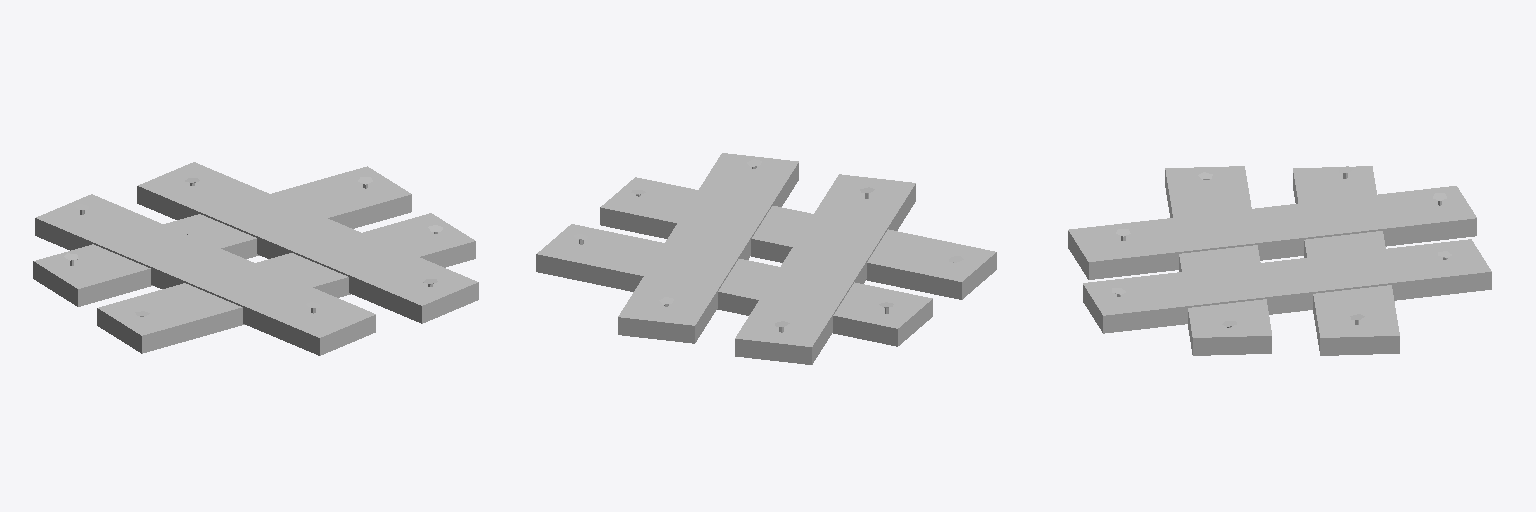
Rendered from Planks_V3.obj.
The picture shows the model from 3 angles: view 1: azimuth 30°, elevation 25°; view 2: azimuth 150°, elevation 25°; view 3: azimuth 270°, elevation 25°; orthographic projection.
Parts seen in each view (by area): view 1: Planks_V3 Plank_3, Plank_3 Nails_V3; view 2: Planks_V3 Plank_3, Plank_3 Nails_V3; view 3: Planks_V3 Plank_3, Plank_3 Nails_V3.
Part boxes in pixels (left/top/right/bottom): Planks_V3 Plank_3: left=33, top=162, right=478, bottom=355; Plank_3 Nails_V3: left=64, top=177, right=442, bottom=316; Planks_V3 Plank_3: left=536, top=153, right=996, bottom=364; Plank_3 Nails_V3: left=574, top=159, right=963, bottom=332; Planks_V3 Plank_3: left=1068, top=166, right=1491, bottom=355; Plank_3 Nails_V3: left=1112, top=166, right=1451, bottom=327.
Size of the model in its own units: 138 by 10.51 by 144.